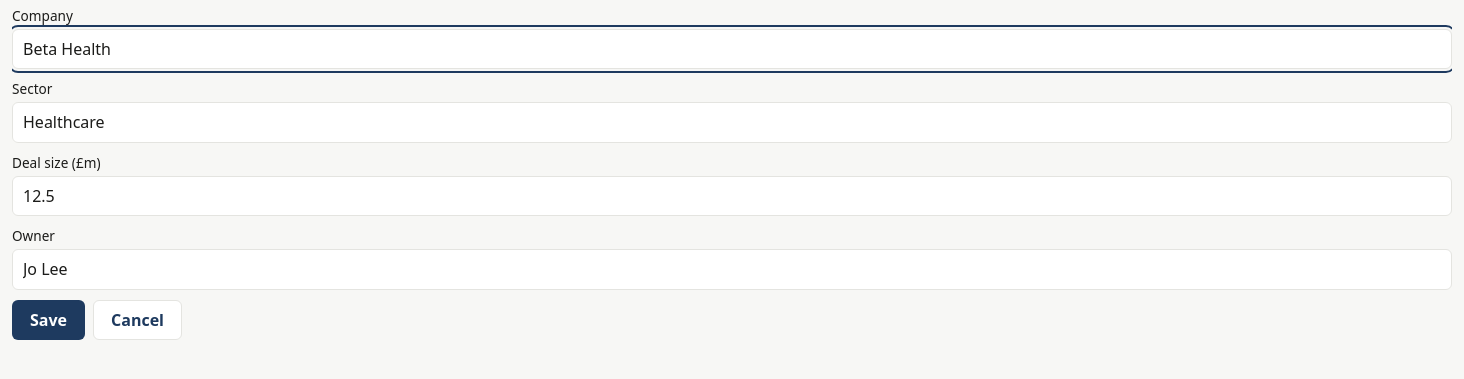
it: EditDealForm validation › rejects a blank company and focuses it
Clear the field labelled "Company" at (732, 49), box [12,29,1452,69]
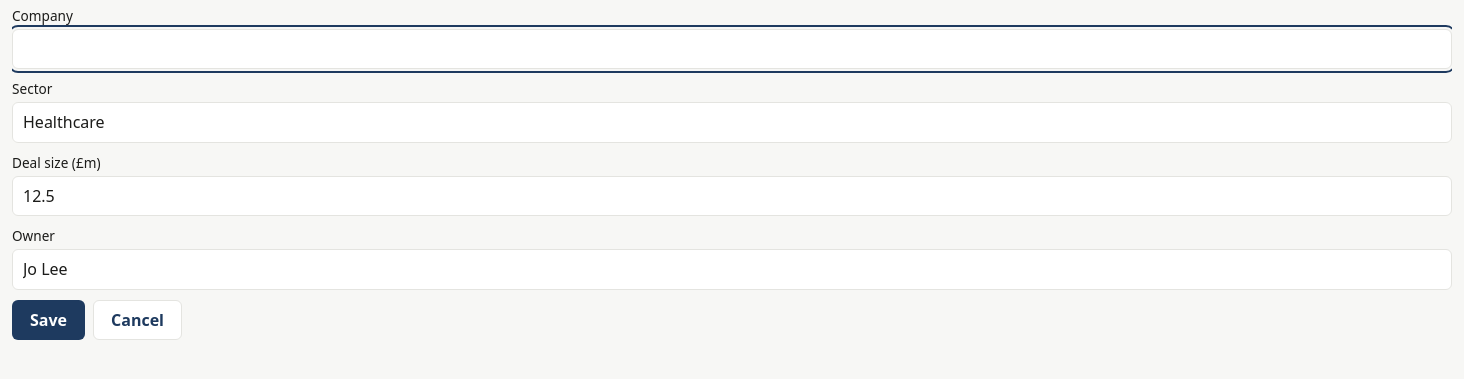
Click the button "Save" at (48, 320), box [12,300,85,340]
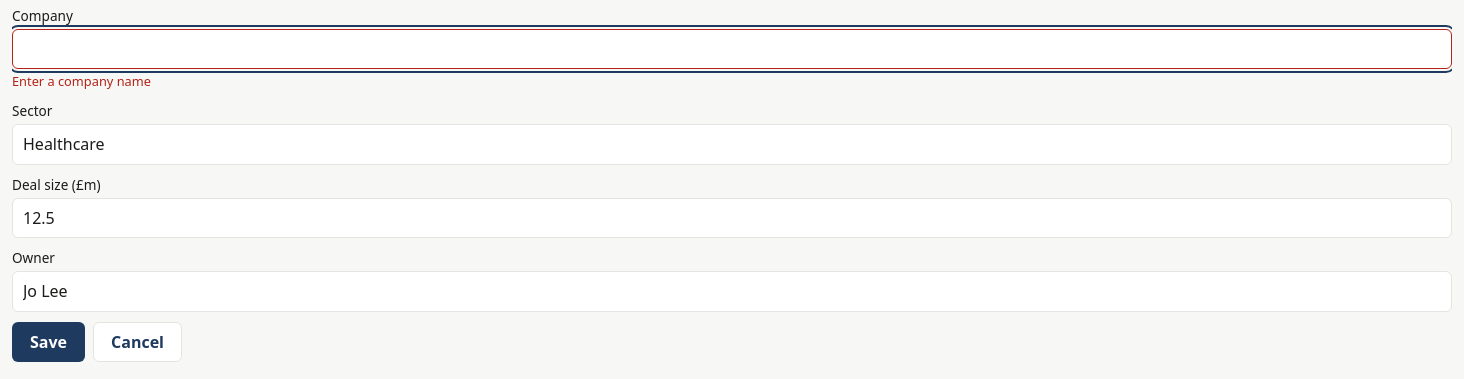
Expected: the message reads "Enter a company name", [12,72,151,90]
